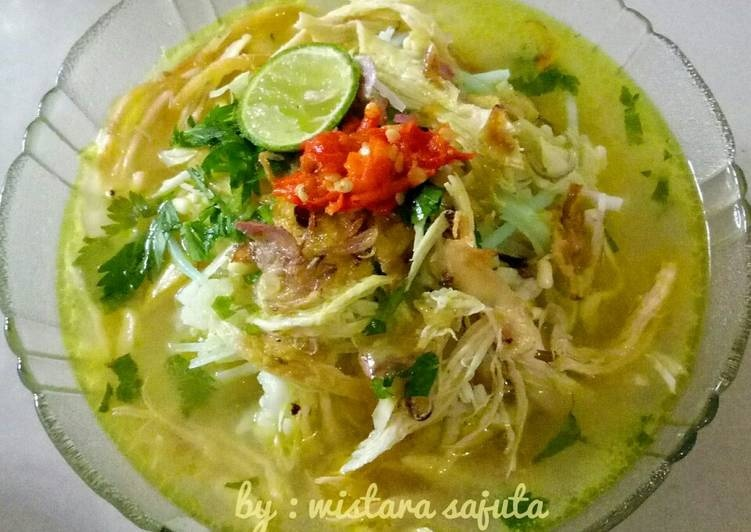soto: (44, 1, 741, 532)
